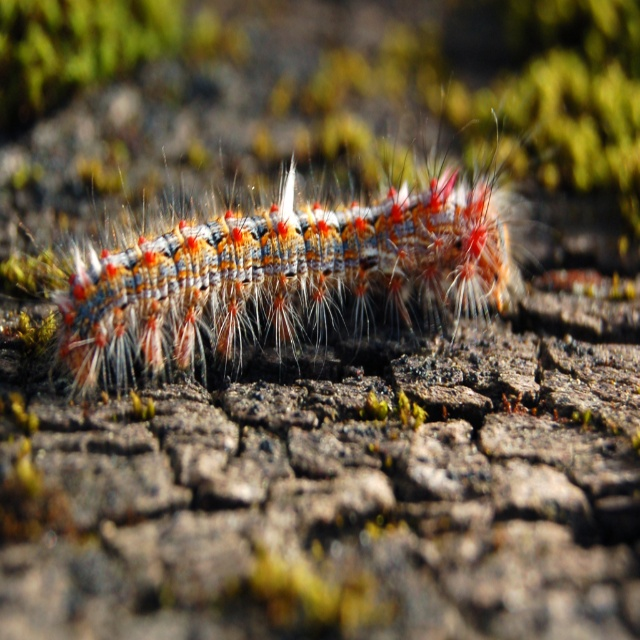Caterpillar: (26, 108, 549, 415)
